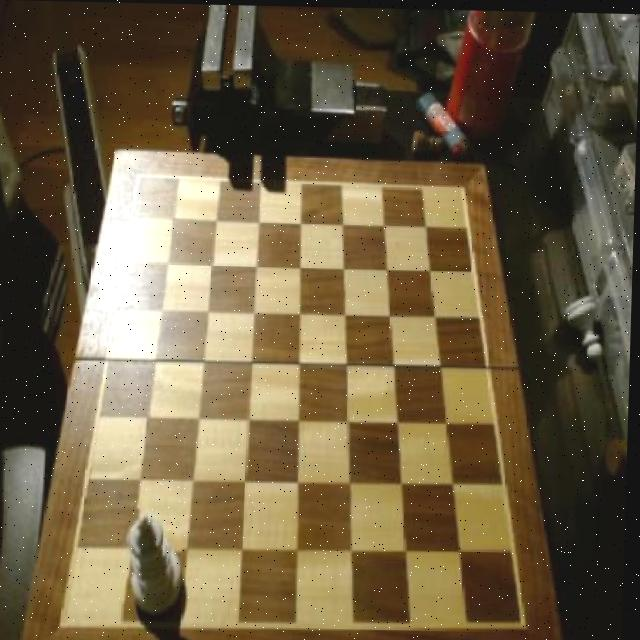white-bishop: (127, 509, 185, 621)
